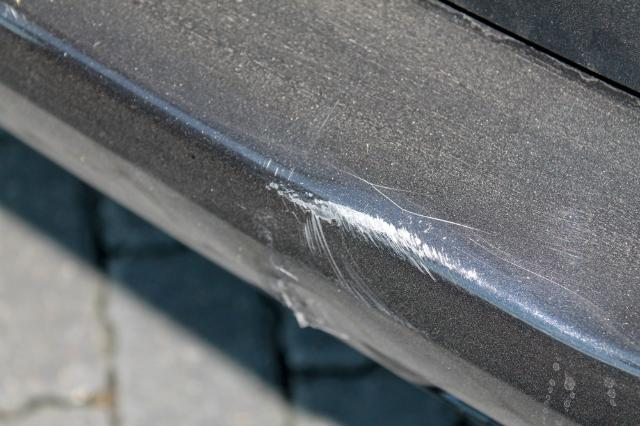scratch: (268, 174, 499, 336)
